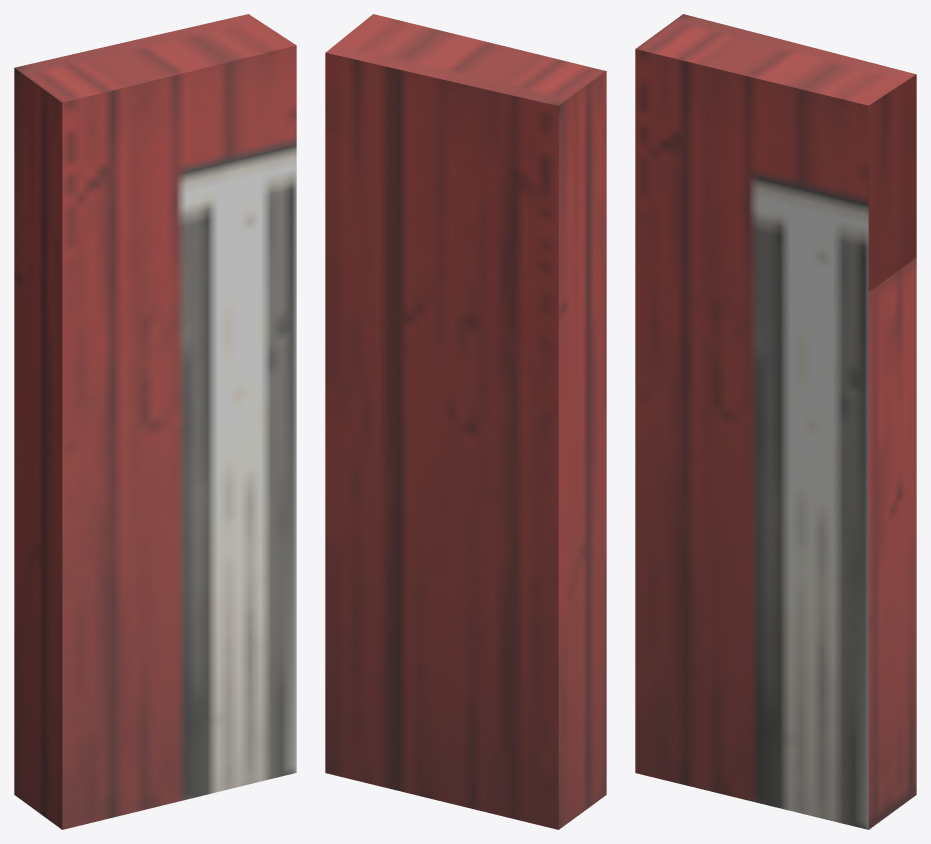
File: bFrontSide.obj
The picture shows the model from 3 angles, left to right: view 1: azimuth 30°, elevation 25°; view 2: azimuth 150°, elevation 25°; view 3: azimuth 330°, elevation 25°; orthographic projection.
Parts seen in each view (by area): view 1: farm_barn_farm_barn_mesh.002_farm_barn_farm_barn_mesh.035; view 2: farm_barn_farm_barn_mesh.002_farm_barn_farm_barn_mesh.035; view 3: farm_barn_farm_barn_mesh.002_farm_barn_farm_barn_mesh.035.
Part boxes in pixels (left/top/right/bottom): farm_barn_farm_barn_mesh.002_farm_barn_farm_barn_mesh.035: left=14, top=14, right=296, bottom=829; farm_barn_farm_barn_mesh.002_farm_barn_farm_barn_mesh.035: left=325, top=14, right=606, bottom=829; farm_barn_farm_barn_mesh.002_farm_barn_farm_barn_mesh.035: left=635, top=14, right=916, bottom=829.
Bounding box in the file's own units: 0.7972 × 2.37 × 0.2832.
